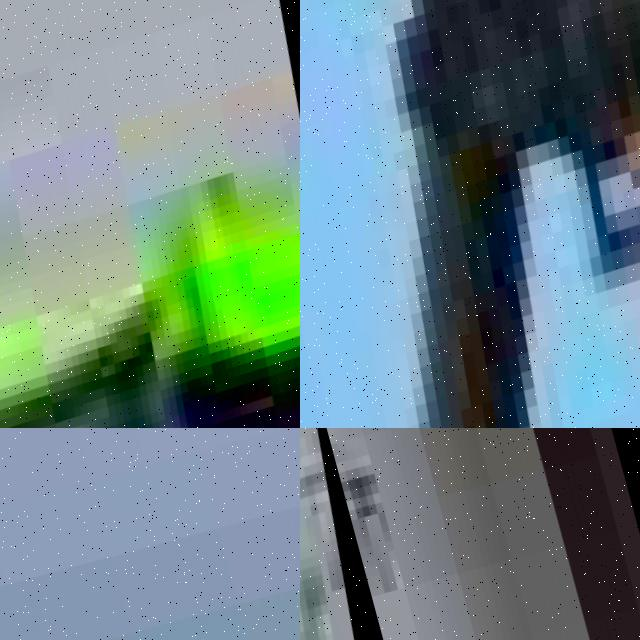0: (0, 0, 300, 428), (300, 428, 450, 640)
drone: (300, 0, 640, 428)
